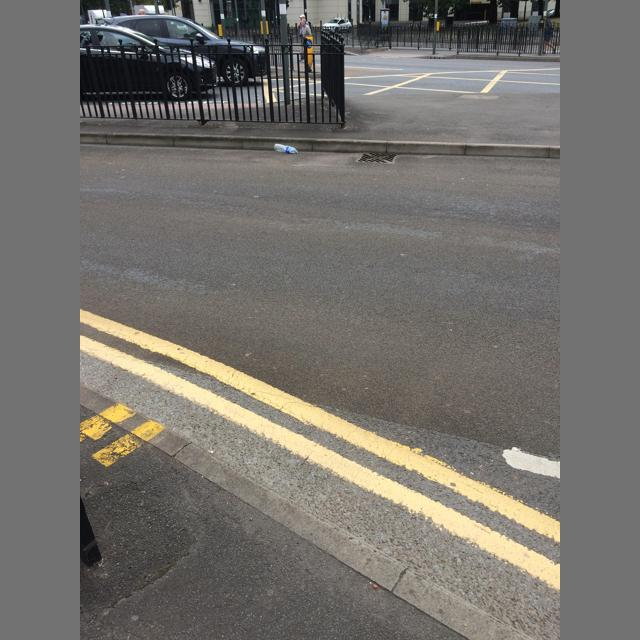litter: (274, 144, 298, 154)
